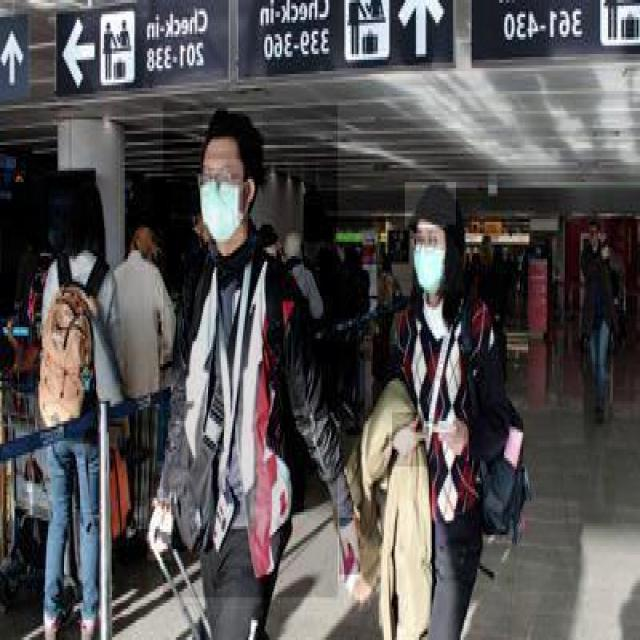face_mask: (202, 159, 243, 242), (414, 225, 446, 293)
face_nomask: (589, 228, 598, 242)
hand_noglove: (390, 412, 429, 470), (435, 412, 469, 467), (146, 498, 171, 563), (338, 518, 360, 577)
head_nohelmet: (403, 182, 456, 228), (202, 114, 262, 154)
person: (162, 102, 338, 600), (358, 179, 524, 637)
